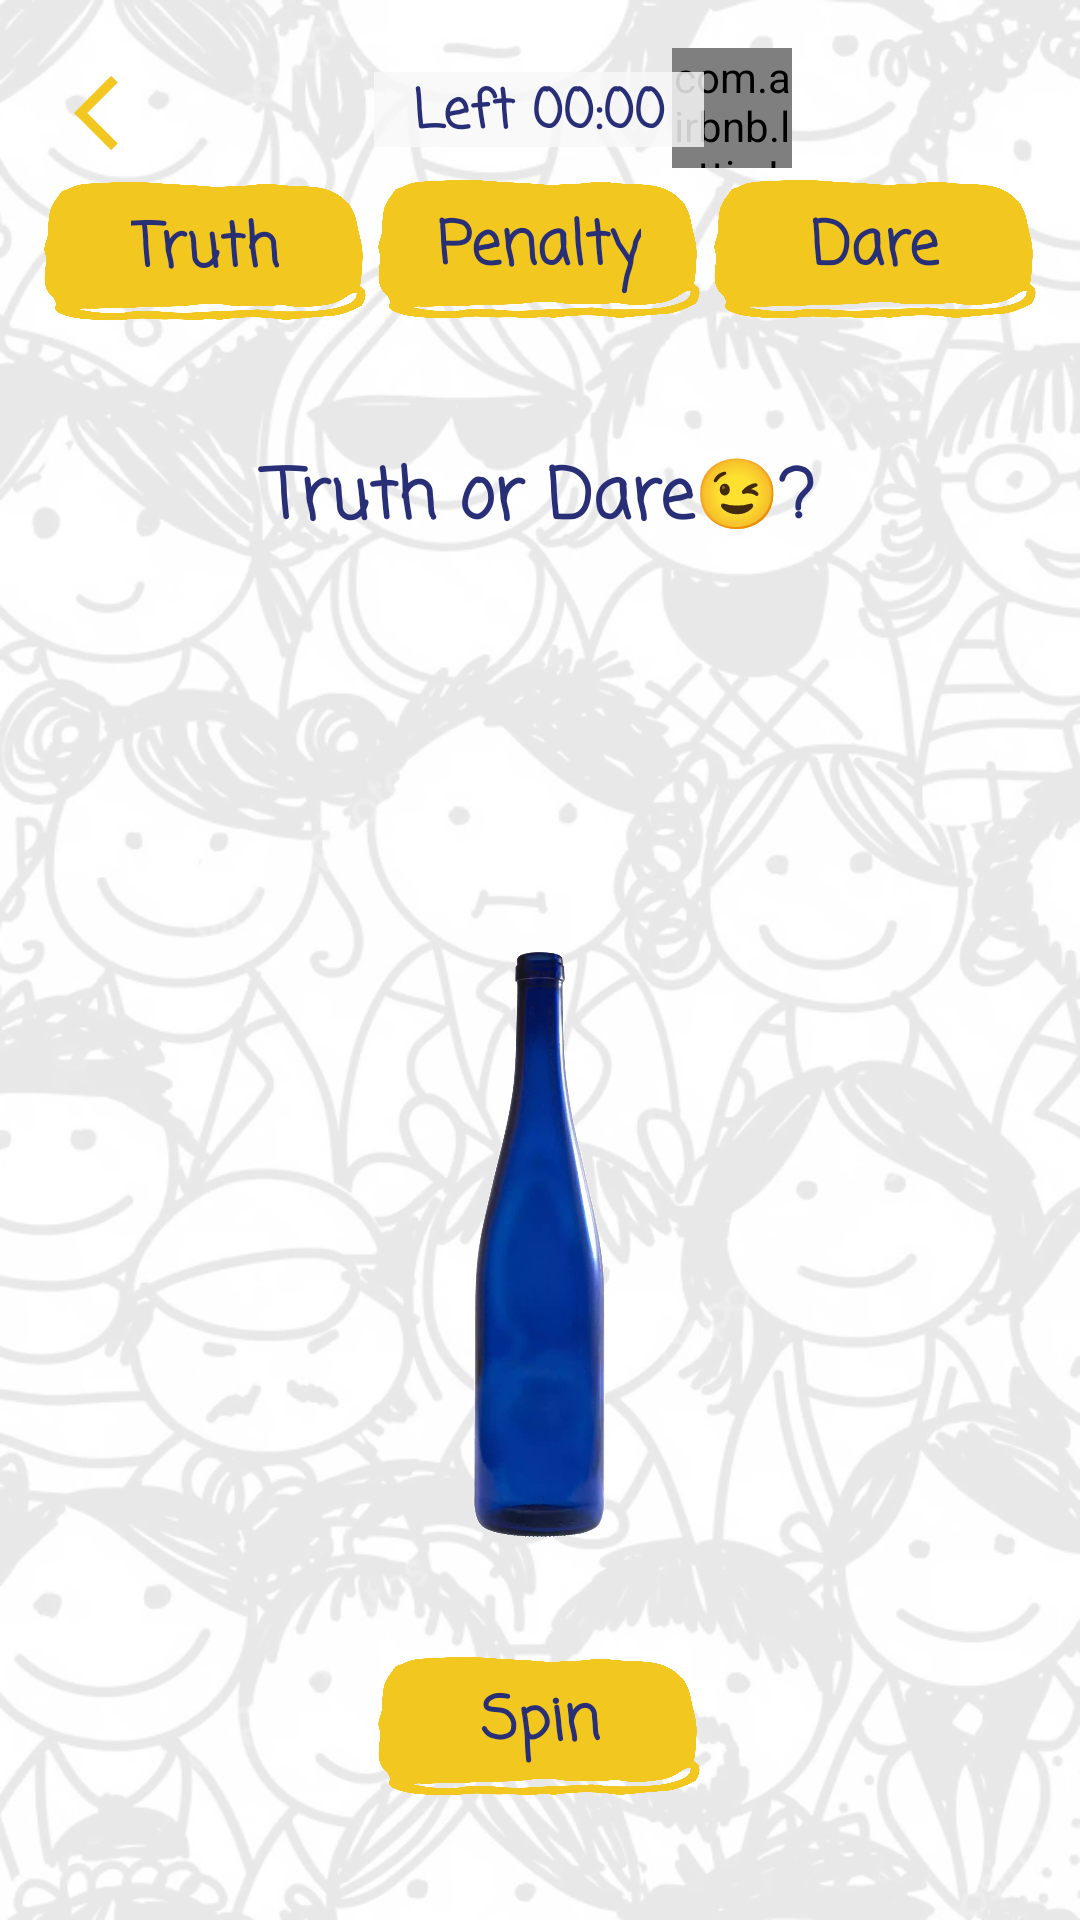

Named icons in this screenshot (1080w x 1920h) and their bounding boxes, bbox=[x1, y1, x2, y2]:
backbtn: bbox=[74, 76, 118, 150]
